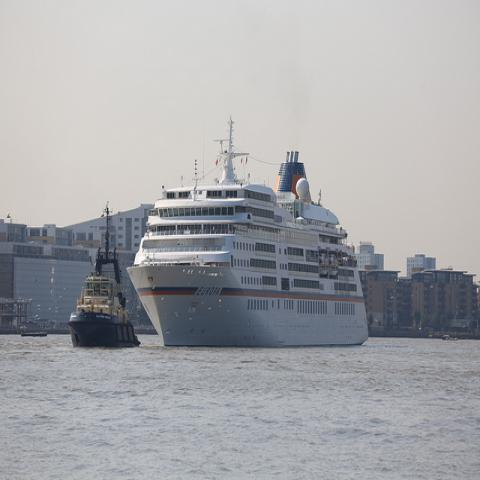car: (410, 326, 416, 331)
